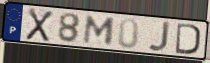0: (116, 17, 141, 50)
8: (56, 12, 82, 44)
D: (175, 22, 202, 56)
J: (147, 21, 172, 53)
M: (82, 14, 118, 46)
X: (24, 7, 55, 43)
